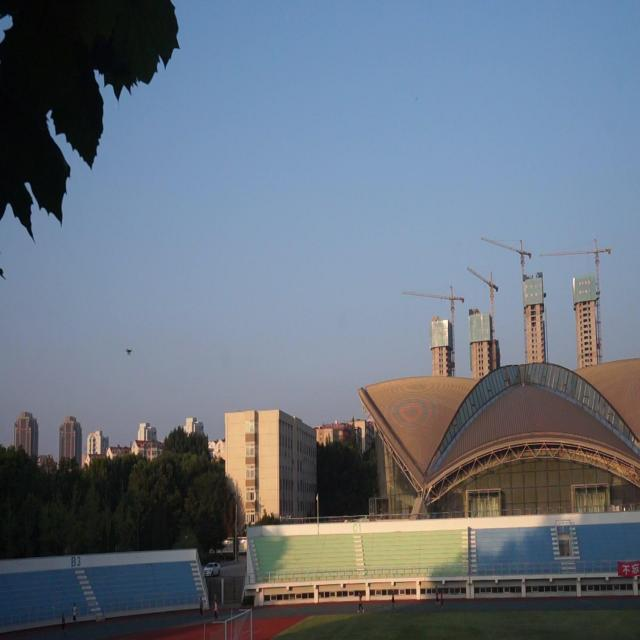UAV: (125, 348, 133, 355)
